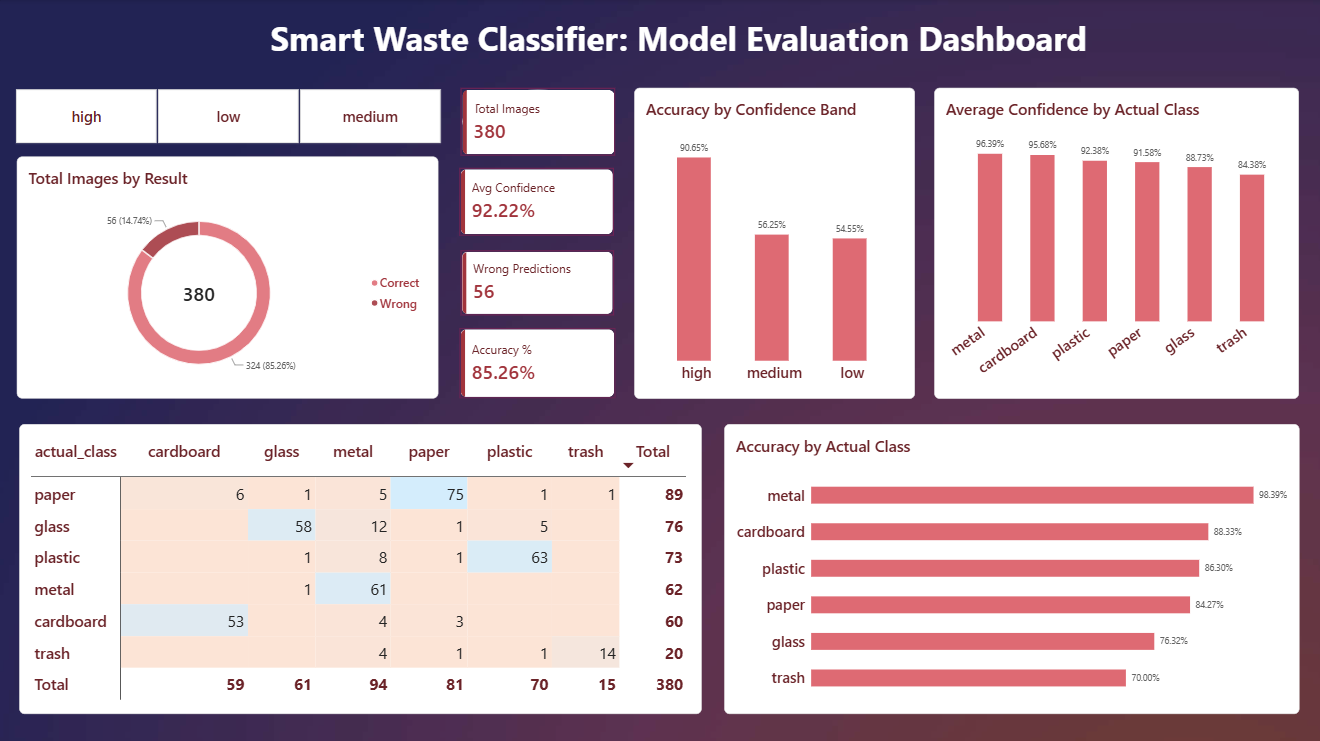

The dashboard page shown, as its layout file describes it:
{"tool":"powerbi","page":{"name":"Page 1","canvas":[1920,1080],"ordinal":0},"visuals":[{"type":"cardVisual","fields":{"Data":["powerbi_export.Accuracy %"]},"box":[668,476,226,102],"z":0},{"type":"cardVisual","fields":{"Data":["powerbi_export.Wrong Predictions"]},"box":[669.6,363.7,222.6,94.1],"z":1000},{"type":"clusteredBarChart","title":"Accuracy by Actual Class","fields":{"Category":["powerbi_export.actual_class"],"Y":["powerbi_export.Accuracy %"]},"box":[1051.4,615.3,832.4,419.8],"z":2000},{"type":"pivotTable","fields":{"Columns":["powerbi_export.predicted_class"],"Rows":["powerbi_export.actual_class"],"Values":["powerbi_export.Total Images"]},"box":[30.8,615.3,988.1,419.8],"z":3000},{"type":"columnChart","title":"Accuracy by Confidence Band","fields":{"Category":["powerbi_export.confidence_band"],"Y":["powerbi_export.Accuracy %"]},"box":[922,128,406,450],"z":4000},{"type":"cardVisual","fields":{"Data":["powerbi_export.Avg Confidence"]},"box":[668,244,224,98],"z":5000},{"type":"slicer","fields":{"Values":["powerbi_export.confidence_band"]},"box":[5.4,128.5,654,82],"z":6000},{"type":"donutChart","fields":{"Category":["powerbi_export.Result"],"Y":["powerbi_export.Total Images"]},"box":[28,228,610,350],"z":7000},{"type":"columnChart","title":"Average Confidence by Actual Class","fields":{"Category":["powerbi_export.actual_class"],"Y":["powerbi_export.Avg Confidence"]},"box":[1356,128,528,450],"z":8000},{"type":"textbox","box":[394,24,1192,72],"z":9000},{"type":"cardVisual","fields":{"Data":["powerbi_export.Total Images"]},"box":[669.6,128.5,224,98],"z":10000}]}

Visuals, with their boxes in screenshot pixels (x1, y1, x2, y2), scaled from the page's 1920x1080 canvas onto the 1320x741 screenshot:
cardVisual - powerbi_export.Accuracy %: {"left": 459, "top": 327, "right": 615, "bottom": 397}
cardVisual - powerbi_export.Wrong Predictions: {"left": 460, "top": 250, "right": 613, "bottom": 314}
"Accuracy by Actual Class" clusteredBarChart: {"left": 723, "top": 422, "right": 1295, "bottom": 710}
pivotTable - powerbi_export.predicted_class x powerbi_export.actual_class: {"left": 21, "top": 422, "right": 700, "bottom": 710}
"Accuracy by Confidence Band" columnChart: {"left": 634, "top": 88, "right": 913, "bottom": 397}
cardVisual - powerbi_export.Avg Confidence: {"left": 459, "top": 167, "right": 613, "bottom": 235}
slicer - powerbi_export.confidence_band: {"left": 4, "top": 88, "right": 453, "bottom": 144}
donutChart - powerbi_export.Result x powerbi_export.Total Images: {"left": 19, "top": 156, "right": 439, "bottom": 397}
"Average Confidence by Actual Class" columnChart: {"left": 932, "top": 88, "right": 1295, "bottom": 397}
textbox: {"left": 271, "top": 16, "right": 1090, "bottom": 66}
cardVisual - powerbi_export.Total Images: {"left": 460, "top": 88, "right": 614, "bottom": 155}
